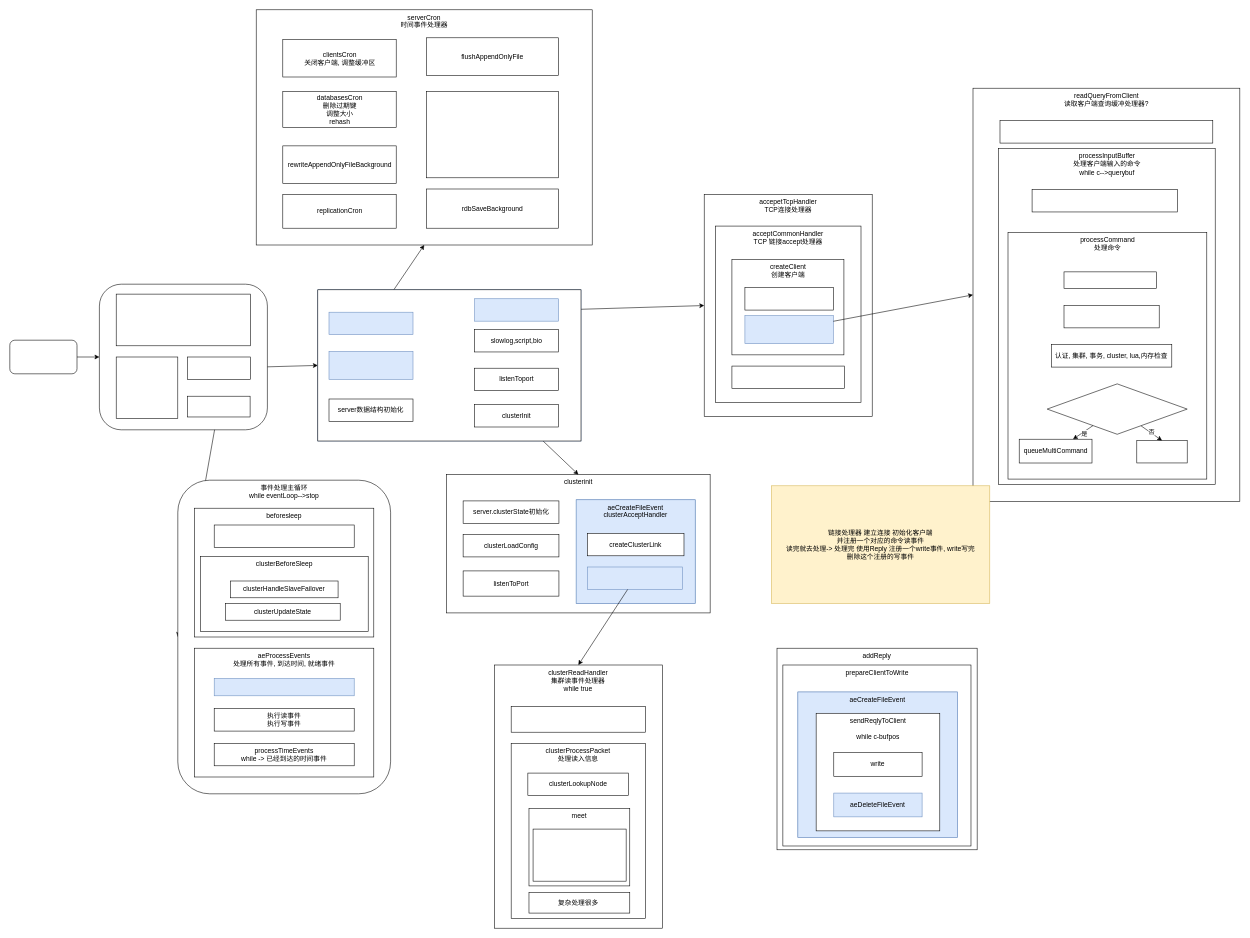
This 1250x938 diagram has some shape labels left out. The shapes that lost their labels are listed below. From the top down, each one's centre as x and y in pixels, then its label:
At (492,134): "clusterCron 给所有正常节点发消息 1s向一个随机节点发gossip消息 向最久没有pong回复的节点发消息 遍历所有节点, 检查是否有异常节点".
At (1106,131): "read".
At (1105,200): "processMultibulkBuffer querybuf 转成命令".
At (788,298): "client数据结构初始化".
At (1109,280): "lookupCommand".
At (183,320): "initServerConfig populateCommandTable".
At (370,323): "aeCreateTimeEvent serverCron".
At (516,309): "aeCreateFileEvent acceptTcpHandler".
At (788,329): "aeCreateFileEvent reqQueryFromClient".
At (1111,316): "cluster处理 getNodeByQuery".
At (43,357): "redis-server-main".
At (219,367): "initServer".
At (370,365): "aeCreateEventLoop include epoll_wait return evevtloop".
At (787,377): "最大1000 , 超过报错然后关闭".
At (147,387): "redisAsciiArt".
At (218,406): "aeMain".
At (1117,408): "是否是事务命令,或者在事务上下文中".
At (1161,451): "call".
At (284,535): "flushAppendOnlyFile 缓冲区写到aof文件".
At (635,577): "aeCreateFileEvent clusterReadHandler".
At (284,687): "aeApiPoll --> include epoll_wait".
At (578,719): "buf = read link-->rcvbuf = buf clusterlink = (clustermsg)link-->rcvbuf".
At (579,855): "createClusterNode clusterAddNode clusterProcessGossipSection clusterSendPing".
